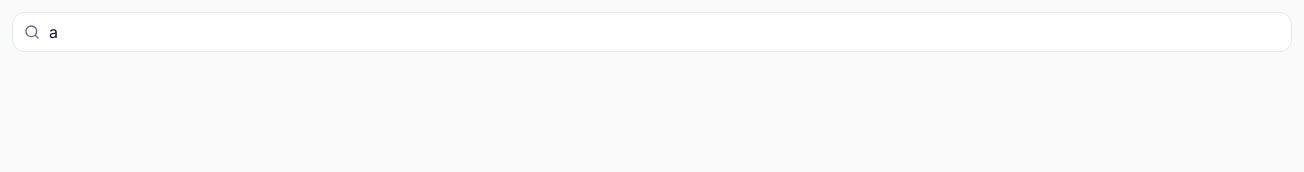
Test: SearchSelect › muestra hintLabel cuando query tiene más de 0 pero menos de minChars caracteres
Step 1. Click the field with placeholder "Buscar..." → {"x": 652, "y": 32}, box x1=12 y1=12 x2=1292 y2=52
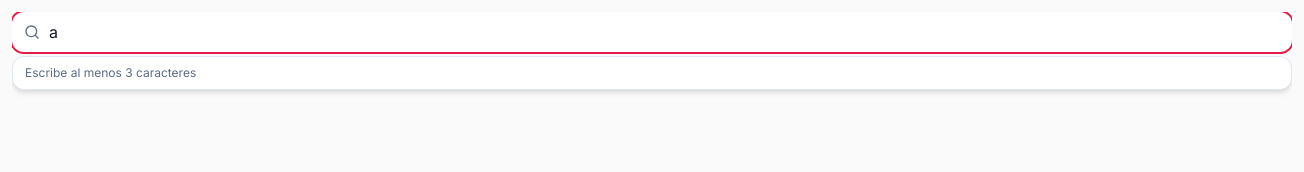
Check: the text "Escribe al menos 3 caracteres" is shown, box x1=12 y1=56 x2=1292 y2=90
